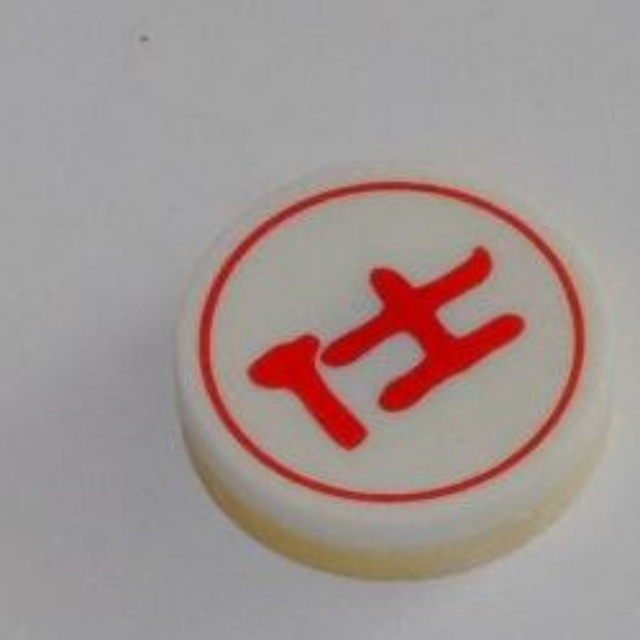red_si: (176, 157, 612, 583)
